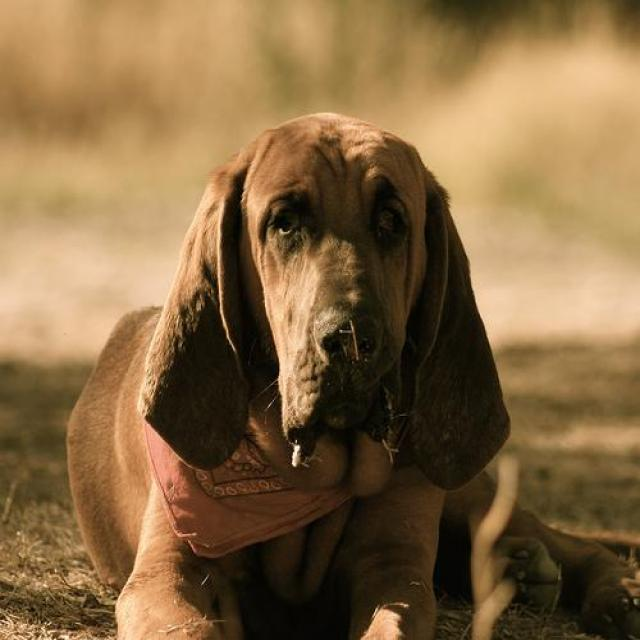bloodhound: (64, 110, 637, 637)
